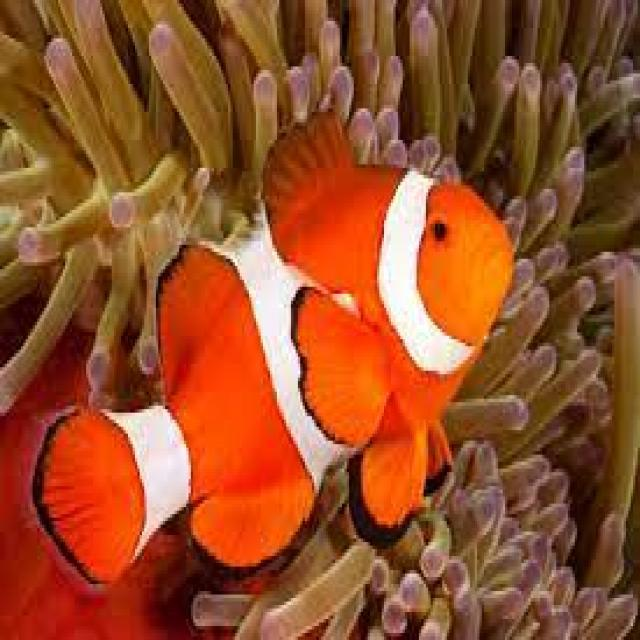ClownFish: (27, 82, 514, 596)
